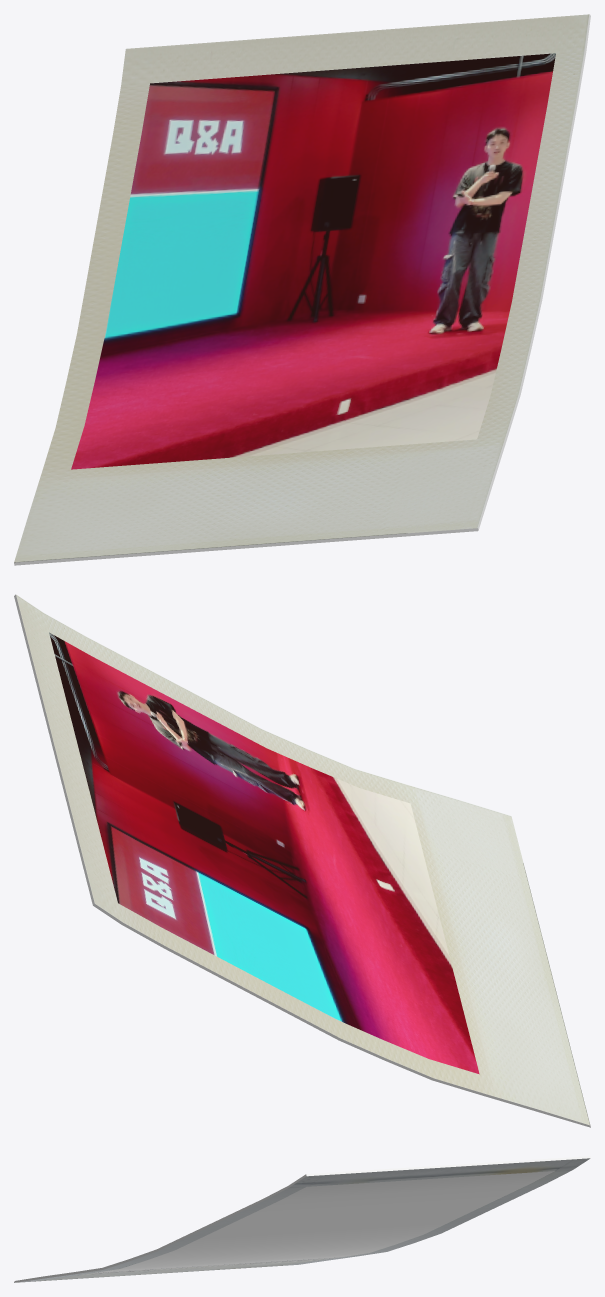
File: about_me.glb
3 views of the same model, one above another, from view 1: azimuth 30°, elevation 25°; view 2: azimuth 150°, elevation 25°; view 3: azimuth 270°, elevation 25° (orthographic). The views are drawn at different scales.
Visible parts, largest first — view 1: Object_3, Object_5; view 2: Object_3, Object_5; view 3: Object_4, Object_5.
Boxes of the visible parts, x1=… form: Object_3: x1=71, y1=53, x2=555, y2=469; Object_5: x1=14, y1=14, x2=590, y2=565; Object_3: x1=49, y1=632, x2=479, y2=1074; Object_5: x1=14, y1=594, x2=590, y2=1127; Object_4: x1=95, y1=1171, x2=554, y2=1272; Object_5: x1=14, y1=1156, x2=590, y2=1282.
Bounding box in the file's own units: 27.2 × 18.12 × 31.5.
3 materials, 2 textured.
